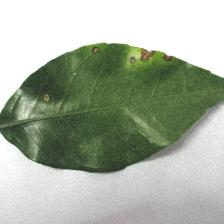greening: (75, 43, 178, 78)
